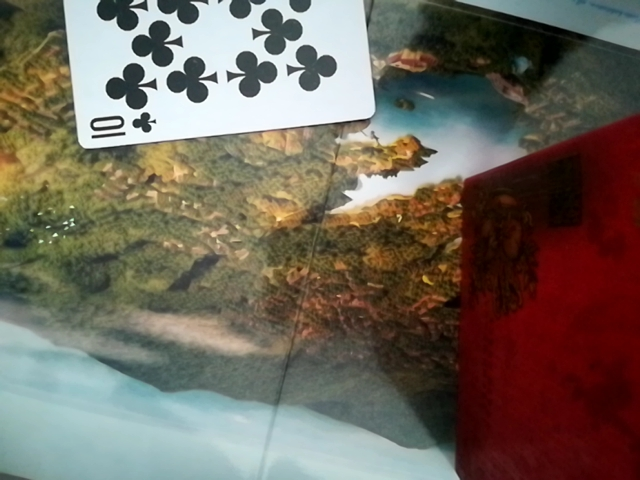mh 10: (56, 2, 370, 149)
